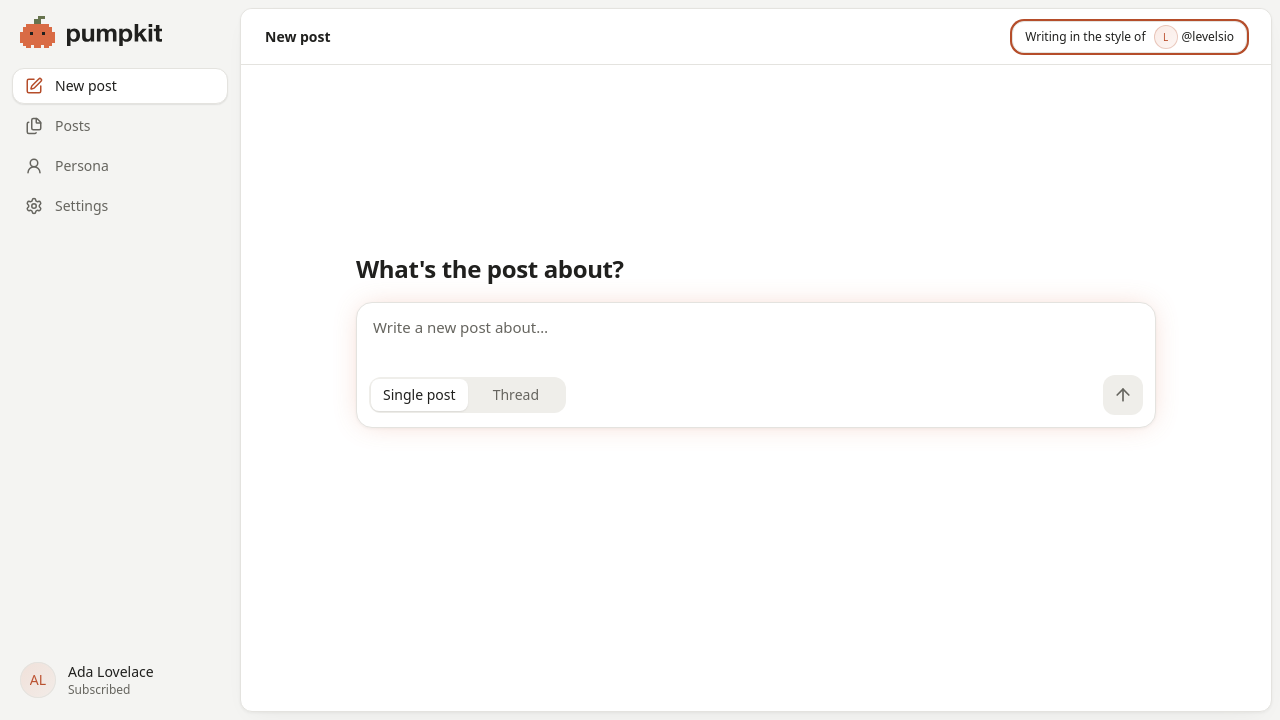
Test: New post › Persona chip › shows the handles while focused, and still opens Persona on click
Expected: the text "@levelsio" is shown, [1182, 28, 1234, 44]
Click the link with aria-label "Writing in the style of @levelsio": (1130, 36) [1012, 20, 1247, 52]
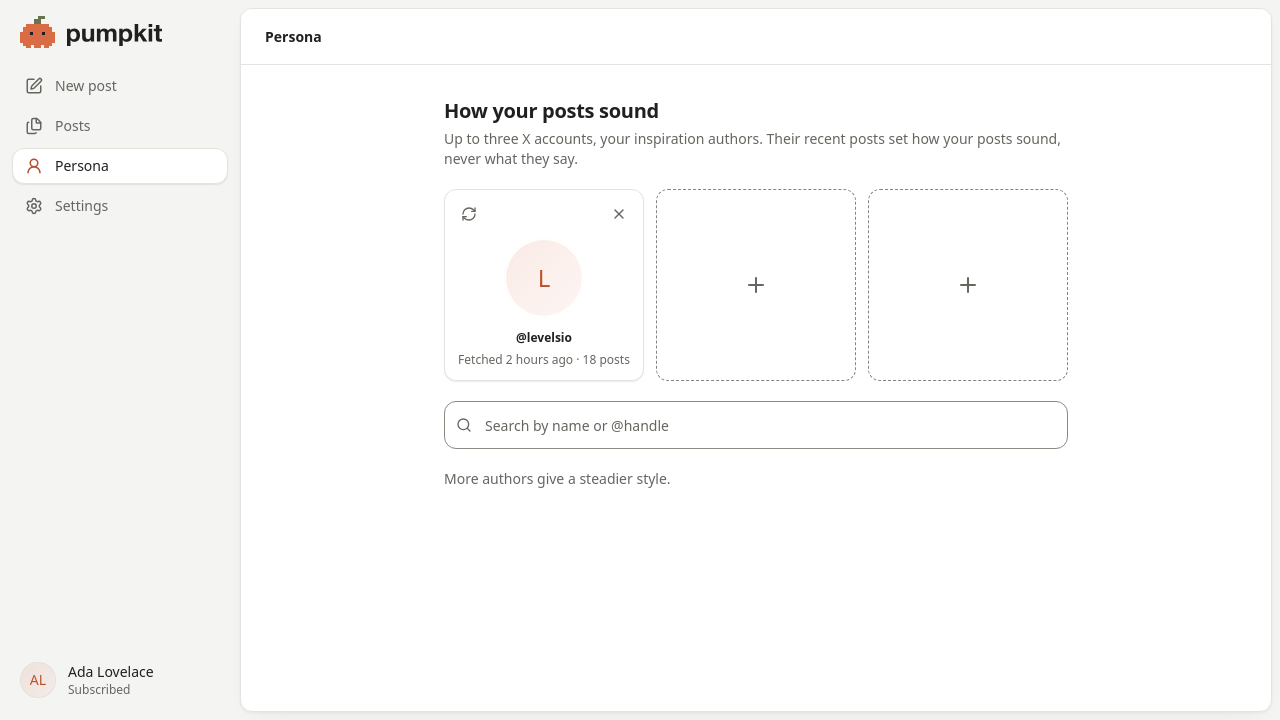
Now the heading "Persona" is shown, box [265, 26, 322, 46]
